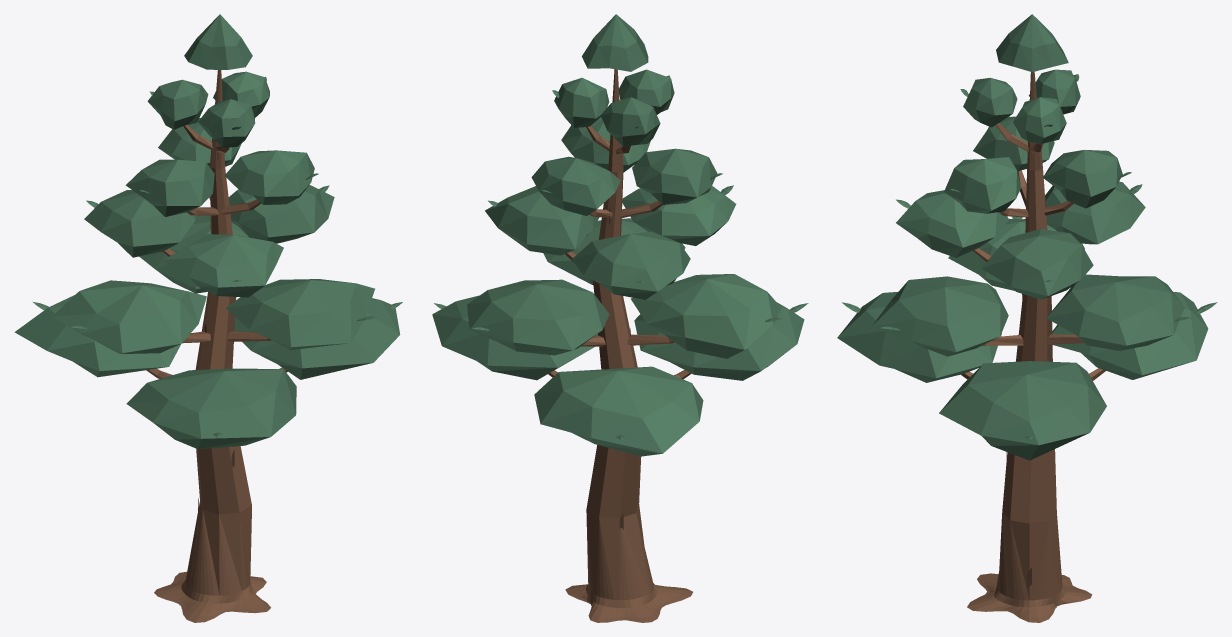
File: pine_autumn.glb
3 renders of one model, left to right at view 1: azimuth 30°, elevation 25°; view 2: azimuth 150°, elevation 25°; view 3: azimuth 270°, elevation 25°, orthographic.
Visible parts, largest first — view 1: leaves, branches; view 2: leaves, branches; view 3: leaves, branches.
Boxes of the visible parts, left/top/right/bottom form: leaves: left=14, top=14, right=402, bottom=449; branches: left=146, top=70, right=287, bottom=622; leaves: left=432, top=14, right=808, bottom=456; branches: left=548, top=69, right=692, bottom=622; leaves: left=837, top=14, right=1217, bottom=460; branches: left=961, top=71, right=1105, bottom=622.
Size of the model in its own units: 3.2 by 5.2 by 3.06.
